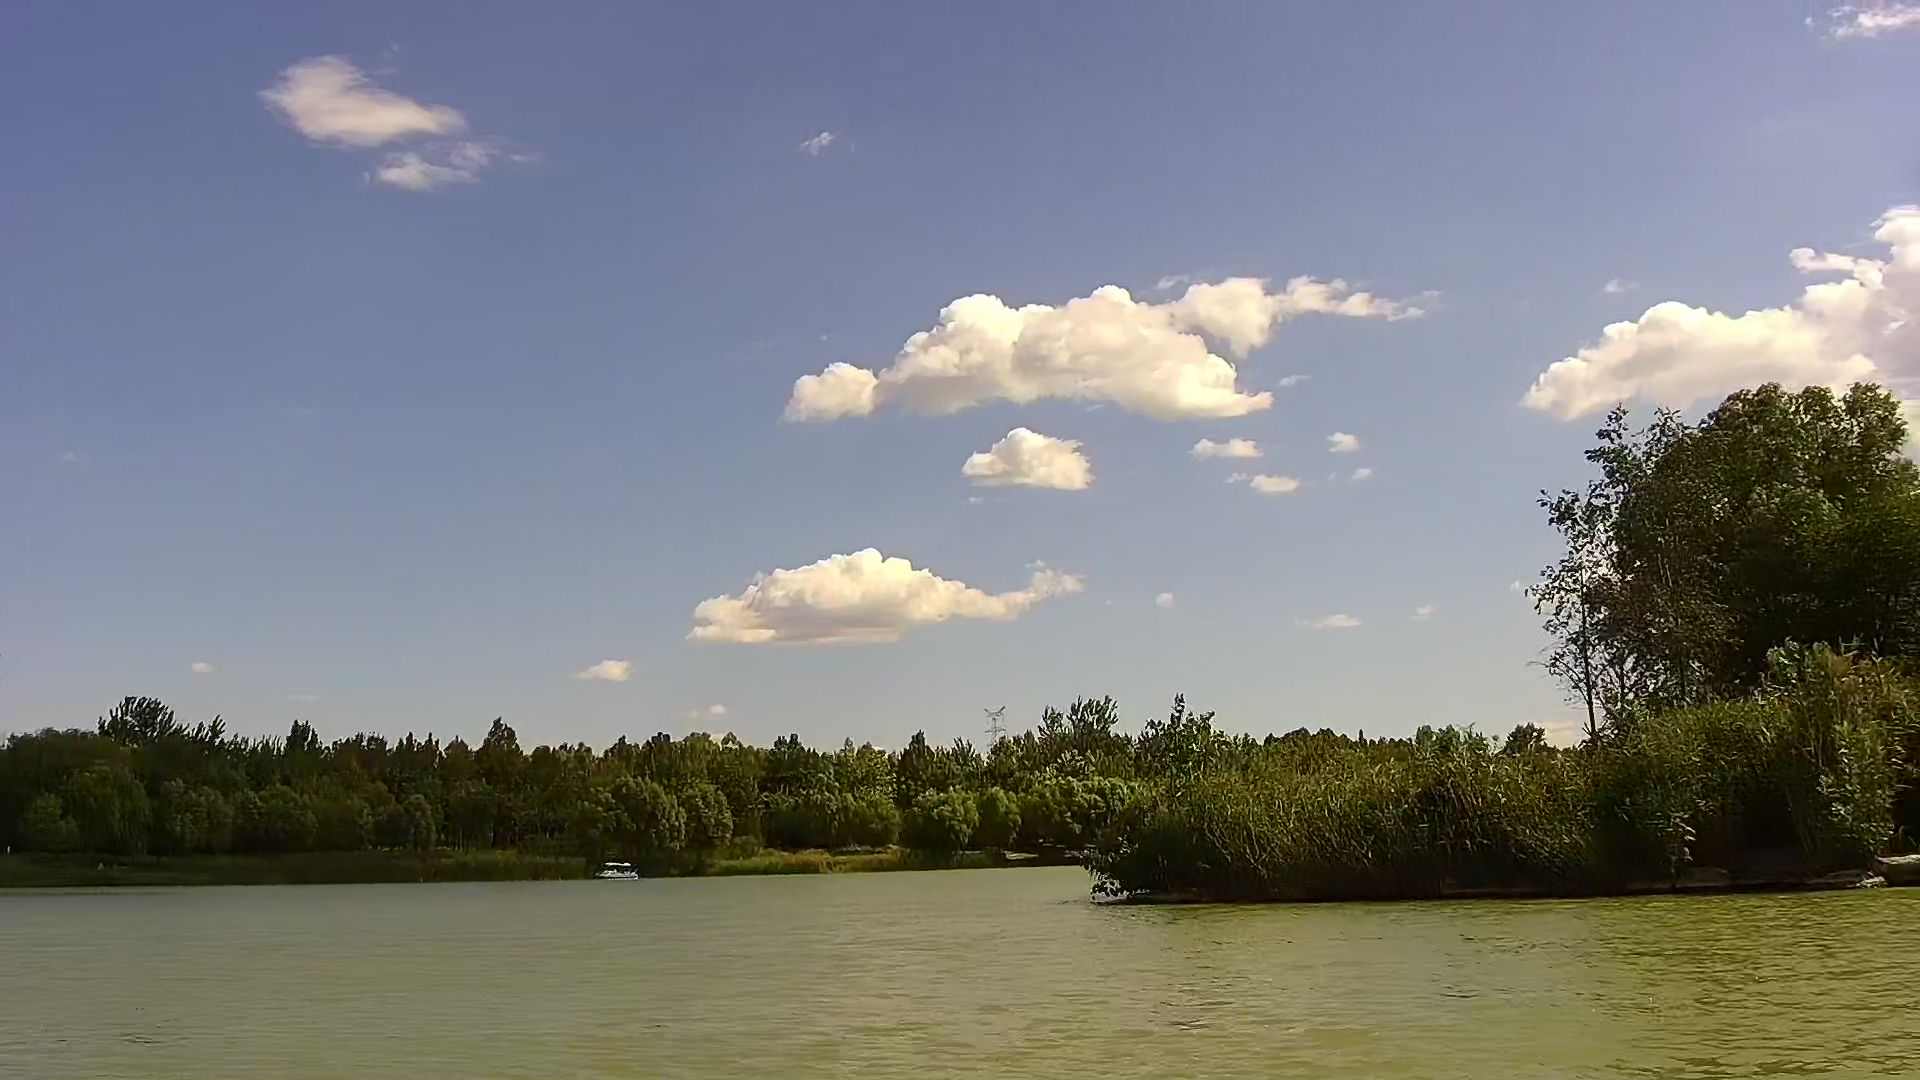boat: (596, 856, 640, 880)
